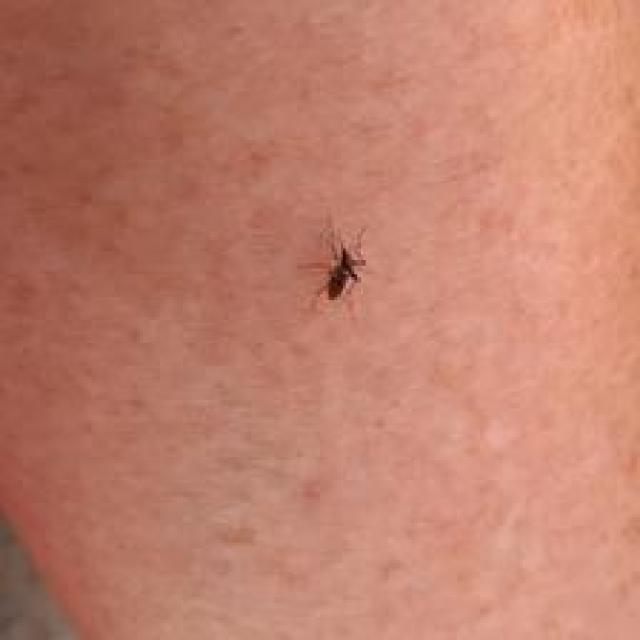Aedes albopictus: (297, 223, 369, 311)
